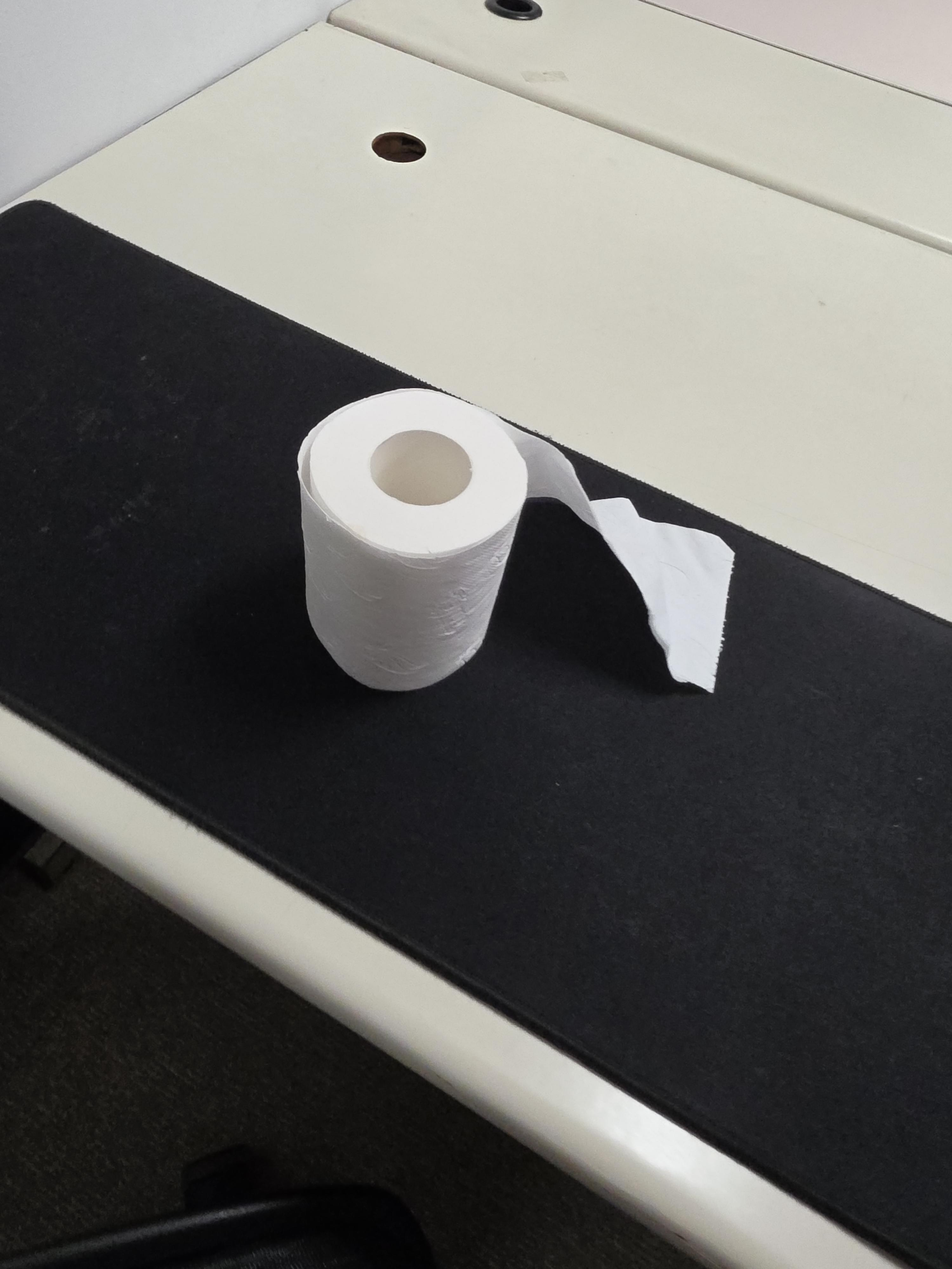tissue: (297, 387, 736, 694)
